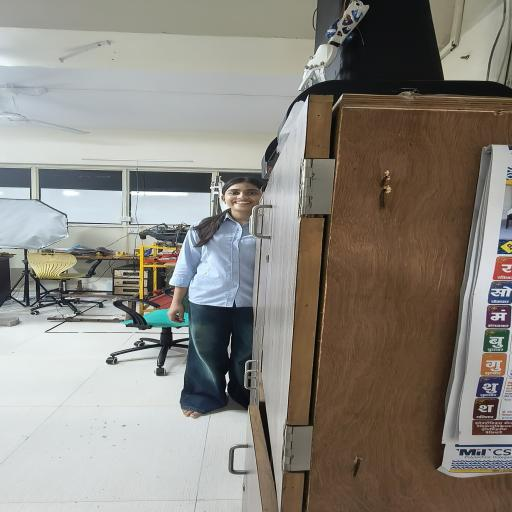survivor: (166, 176, 266, 419)
